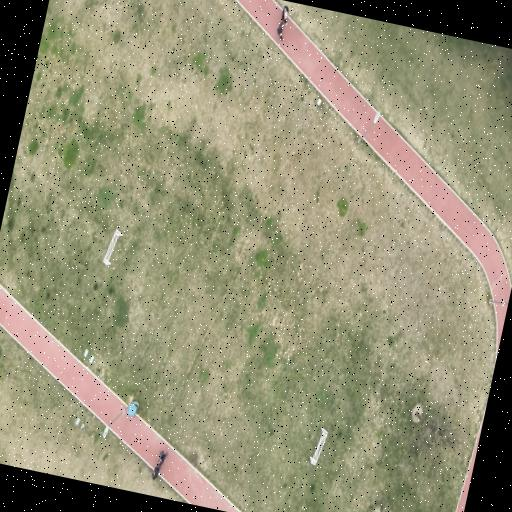person: (151, 451, 166, 479), (157, 451, 166, 466), (151, 464, 159, 479), (277, 21, 283, 40), (281, 6, 287, 24)
